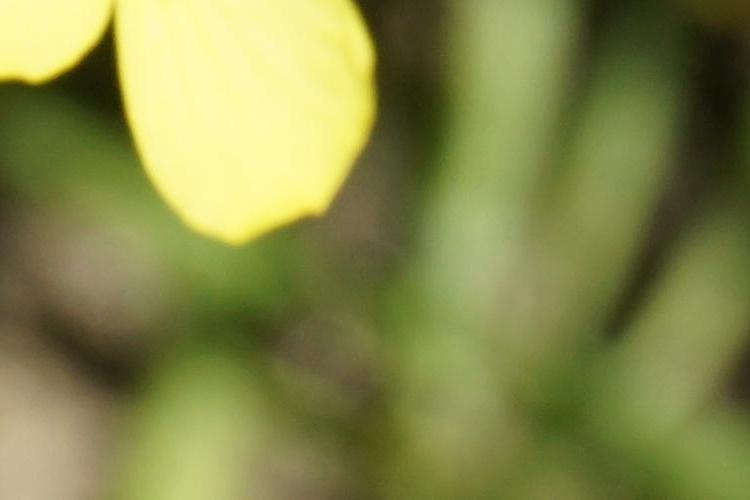yellow: (18, 19, 381, 256)
